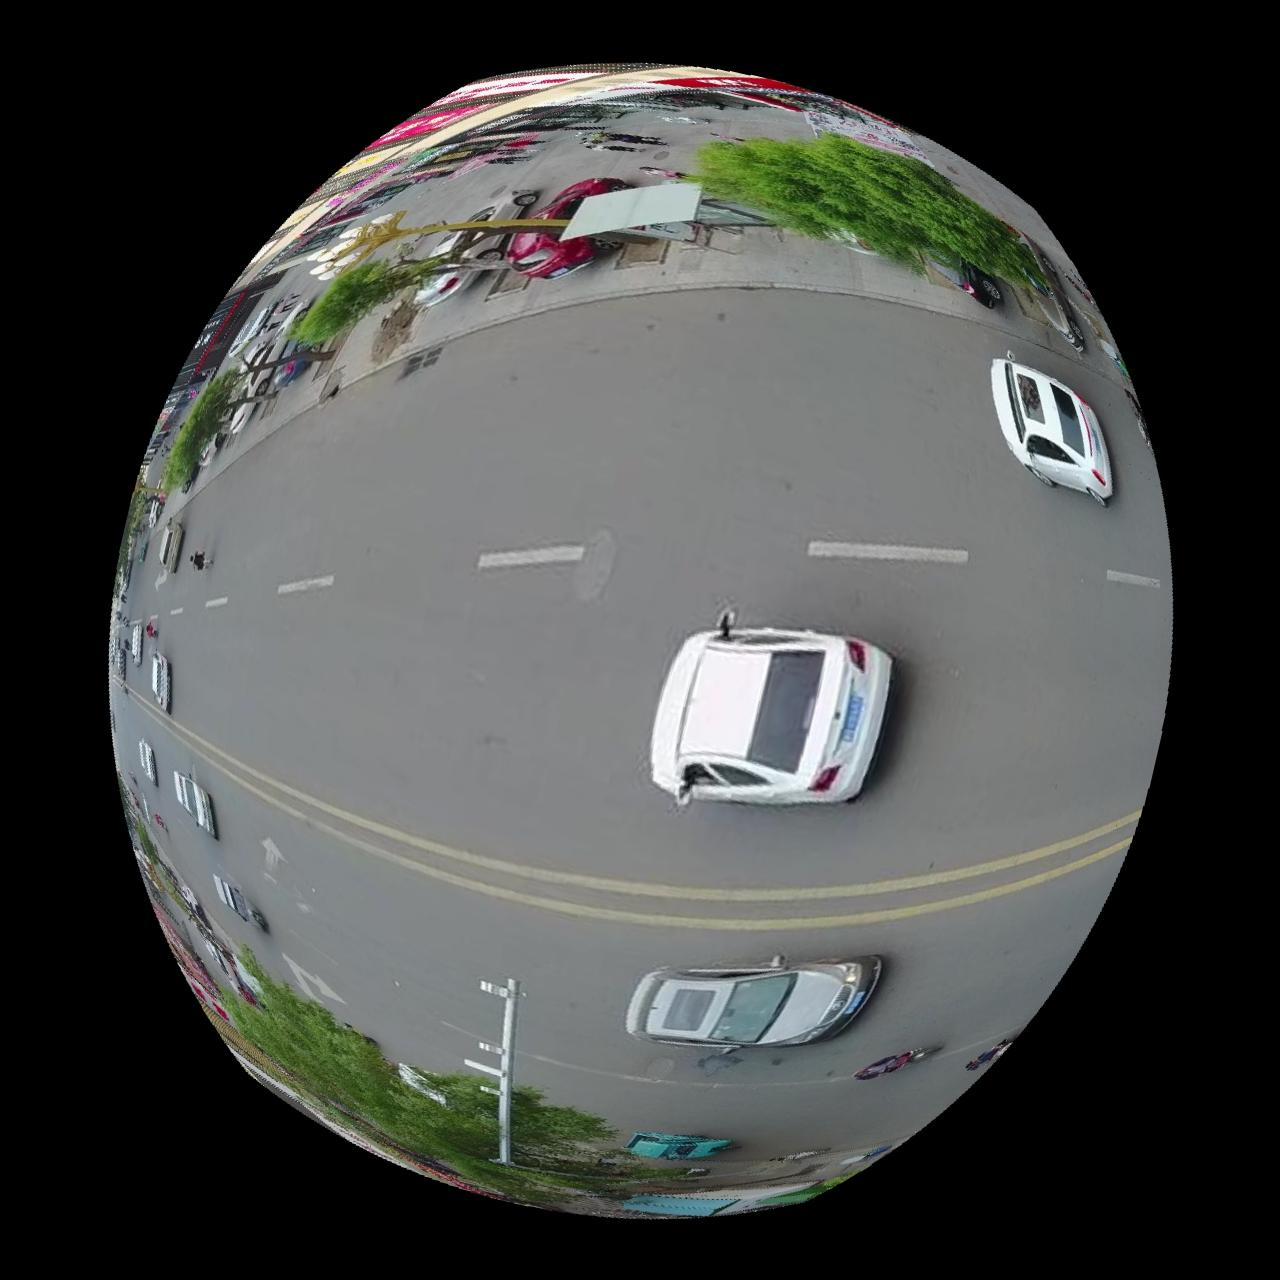cars: (653, 617, 894, 805), (626, 955, 883, 1049), (993, 355, 1115, 502), (172, 771, 215, 836), (150, 649, 169, 713)
trees: (224, 951, 682, 1205), (689, 129, 1051, 292)
